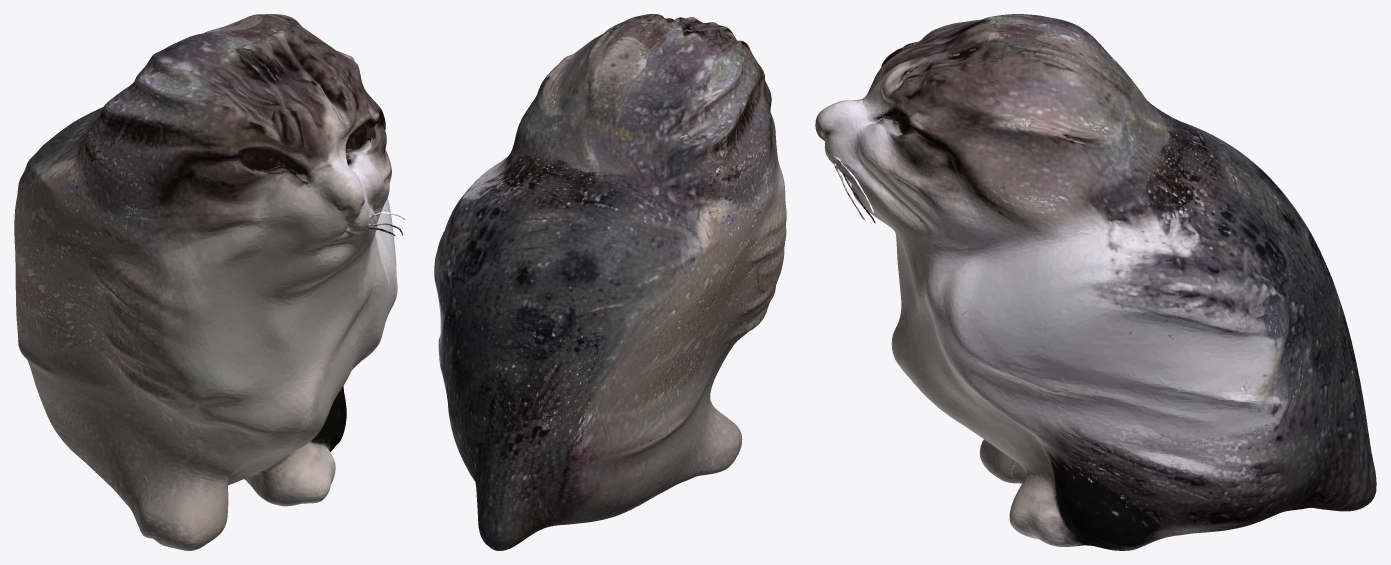
Rendered from cat.fbx.
3 renders of one model, left to right at view 1: azimuth 30°, elevation 25°; view 2: azimuth 150°, elevation 25°; view 3: azimuth 270°, elevation 25°, orthographic. The views are drawn at different scales.
Parts seen in each view (by area): view 1: world; view 2: world; view 3: world.
Part boxes in pixels (x1,y1,x2,y2): world: (14,14,405,550); world: (434,14,786,550); world: (815,14,1376,550).
Bounding box in the file's own units: 5.21 × 8 × 8.45.
